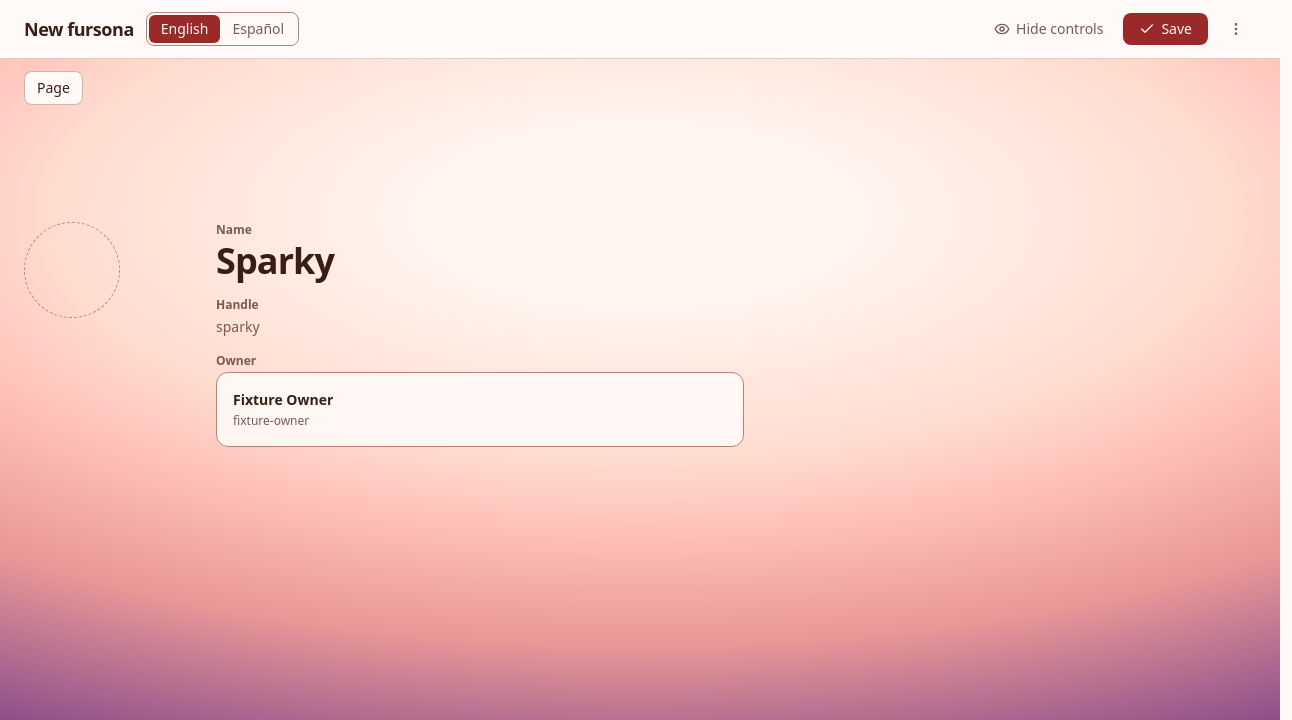
FursonaEditor › fills the fields from what it was given
This screenshot has width=1292, height=720.
What coordinates should you click on to do the following:
click the button with test id "select-page"
I would click on:
 (53, 88)
Its box is [24, 71, 83, 105].
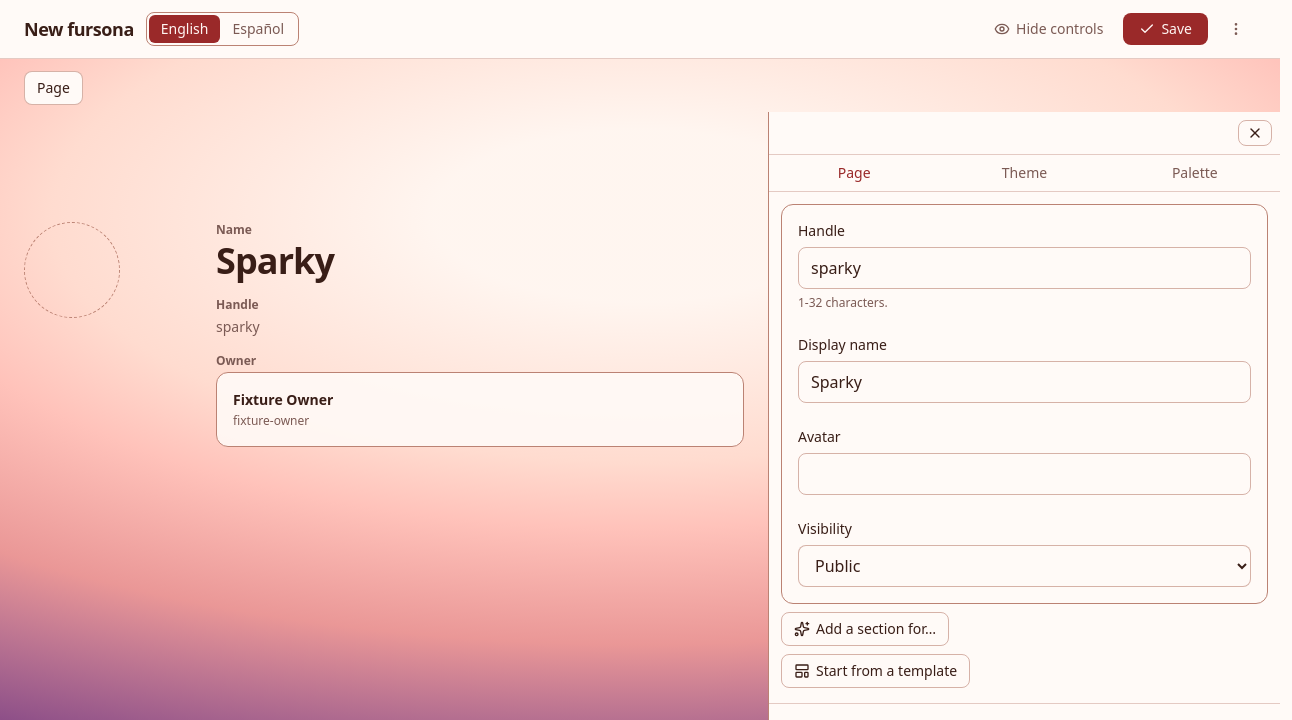
Expected: the field labelled "Display name" holds "Sparky", [798, 361, 1251, 403]
